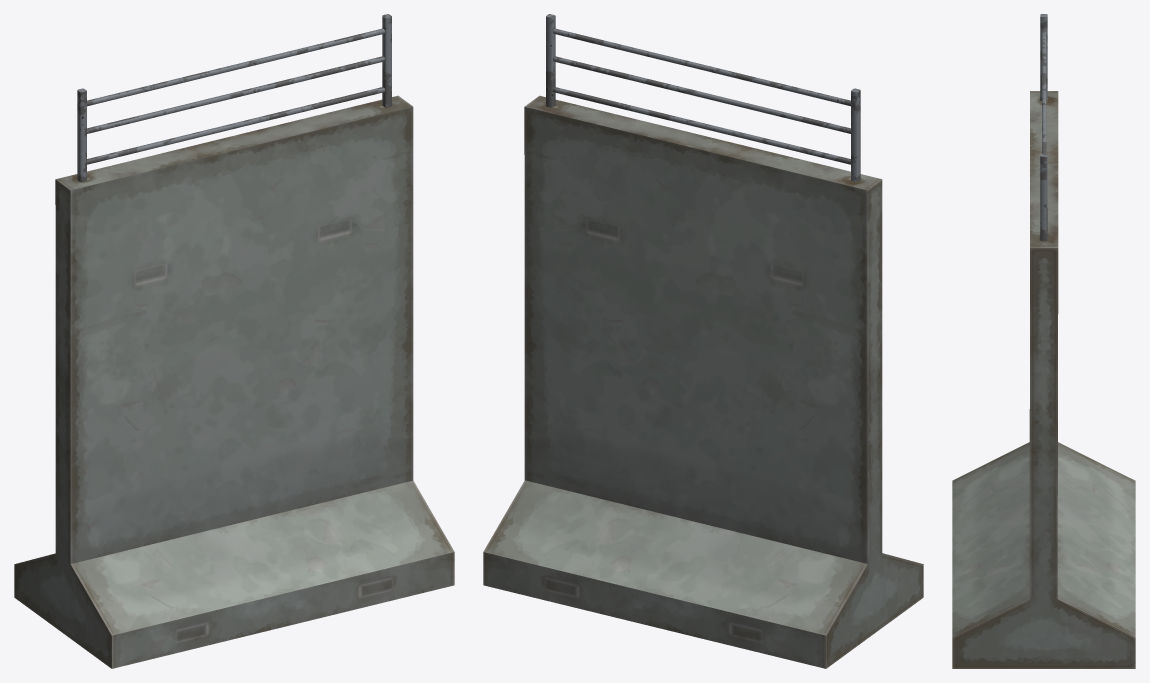
File: BarrierConcrete02_1.FBX
3 views of the same model, side by side, from view 1: azimuth 30°, elevation 25°; view 2: azimuth 150°, elevation 25°; view 3: azimuth 270°, elevation 25° (orthographic). The views are drawn at different scales.
Visible parts, largest first — view 1: BarrierConcrete02_1; view 2: BarrierConcrete02_1; view 3: BarrierConcrete02_1.
Part boxes in pixels (x1,y1,x2,y2): BarrierConcrete02_1: [14, 14, 454, 668]; BarrierConcrete02_1: [483, 14, 923, 668]; BarrierConcrete02_1: [952, 14, 1135, 668].
Size of what is drawn, in the model's own units: 2 by 3 by 0.9855.
